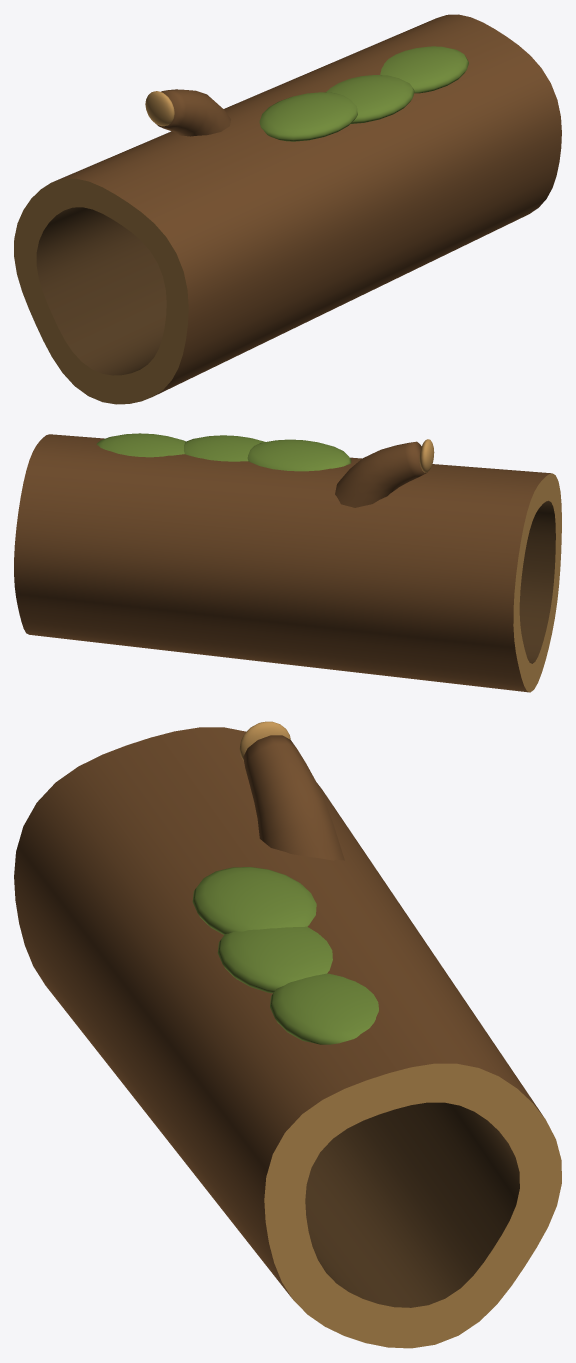
The model's file is hollow_fallen_log.glb.
The picture shows the model from 3 angles, top to bottom: view 1: azimuth 30°, elevation 25°; view 2: azimuth 150°, elevation 25°; view 3: azimuth 270°, elevation 25°; orthographic projection. The views are drawn at different scales.
Visible parts, largest first — view 1: NaturalGeometryGeometry; view 2: NaturalGeometryGeometry; view 3: NaturalGeometryGeometry.
Part boxes in pixels (x1=…): NaturalGeometryGeometry: x1=14, y1=14, x2=561, y2=404; NaturalGeometryGeometry: x1=14, y1=433, x2=561, y2=692; NaturalGeometryGeometry: x1=14, y1=721, x2=561, y2=1348.
Size of the model in its own units: 2.39 by 1.16 by 1.52.
